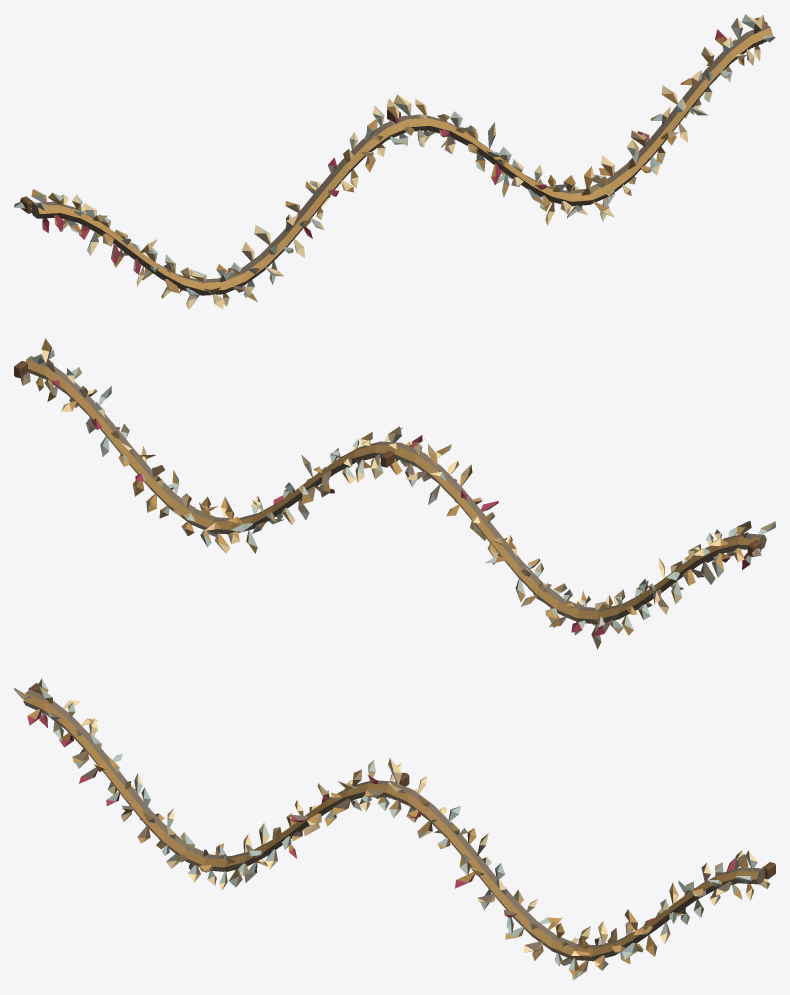
File: foil_tinsel_draped.glb
The picture shows the model from 3 angles, top to bottom: view 1: azimuth 30°, elevation 25°; view 2: azimuth 150°, elevation 25°; view 3: azimuth 330°, elevation 25°; orthographic projection.
Visible parts, largest first — view 1: foil_tinsel_draped; view 2: foil_tinsel_draped; view 3: foil_tinsel_draped.
Part boxes in pixels (<box>): foil_tinsel_draped: <box>14,14,775,309</box>; foil_tinsel_draped: <box>14,338,775,649</box>; foil_tinsel_draped: <box>14,678,775,980</box>.
Size of the model in its own units: 1.61 by 0.3502 by 0.1281.
